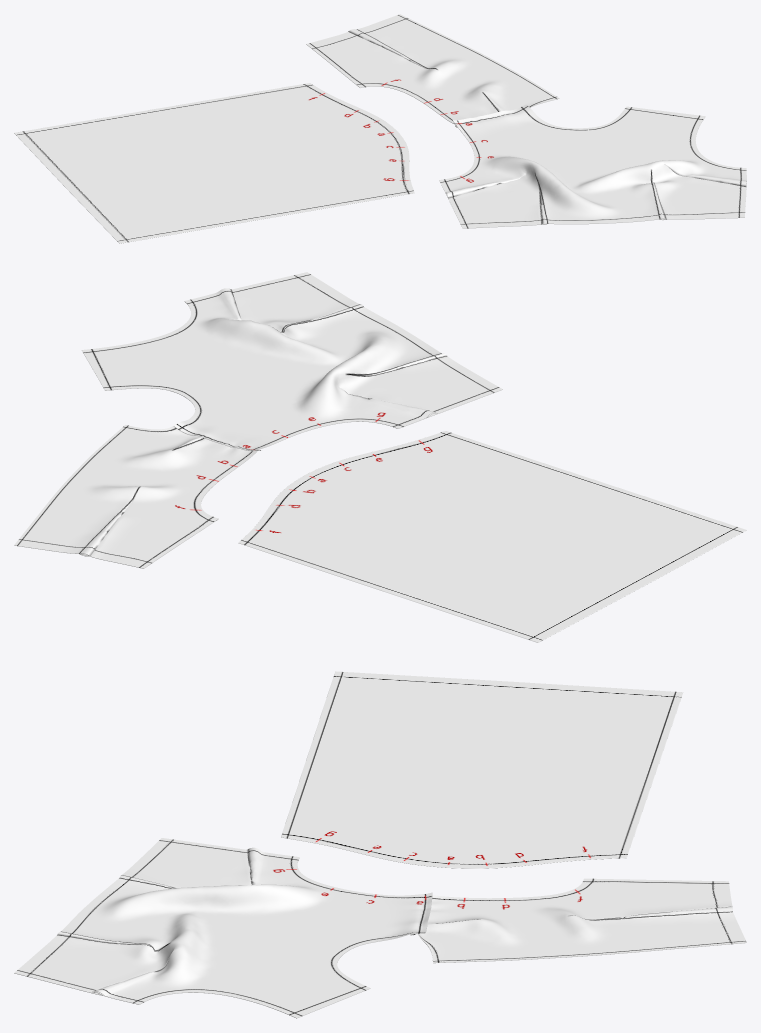
Rendered from setp4_01.fbx.
3 renders of one model, top to bottom at view 1: azimuth 30°, elevation 25°; view 2: azimuth 150°, elevation 25°; view 3: azimuth 270°, elevation 25°, orthographic. The views are drawn at different scales.
Visible parts, largest first — view 1: fenghexiu_01:Pattern2D_219457, fenghexiu_01:Pattern2D_128431, fenghexiu_01:Pattern2D_24582; view 2: fenghexiu_01:Pattern2D_219457, fenghexiu_01:Pattern2D_128431, fenghexiu_01:Pattern2D_24582; view 3: fenghexiu_01:Pattern2D_219457, fenghexiu_01:Pattern2D_128431, fenghexiu_01:Pattern2D_24582.
Part boxes in pixels (x1,y1,x2,y2): fenghexiu_01:Pattern2D_219457: (14, 83, 414, 243); fenghexiu_01:Pattern2D_128431: (439, 104, 746, 228); fenghexiu_01:Pattern2D_24582: (306, 14, 559, 127); fenghexiu_01:Pattern2D_219457: (238, 431, 746, 642); fenghexiu_01:Pattern2D_128431: (81, 272, 502, 450); fenghexiu_01:Pattern2D_24582: (14, 423, 261, 568); fenghexiu_01:Pattern2D_219457: (281, 671, 683, 868); fenghexiu_01:Pattern2D_128431: (14, 838, 432, 1018); fenghexiu_01:Pattern2D_24582: (410, 878, 746, 963).
Size of the model in its own units: 91.3 by 2.2 by 81.7.
